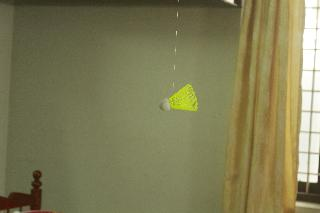shuttlecock: (159, 83, 197, 110)
